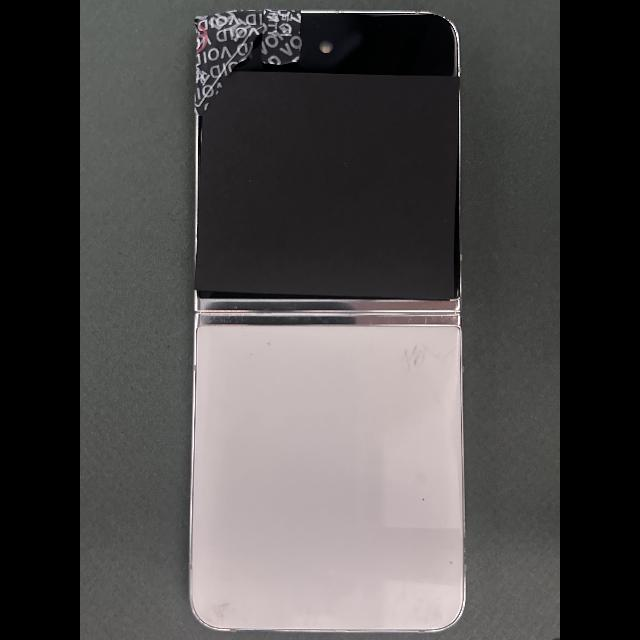phone: (190, 10, 466, 633)
sticker: (194, 9, 263, 117), (261, 9, 301, 66)
